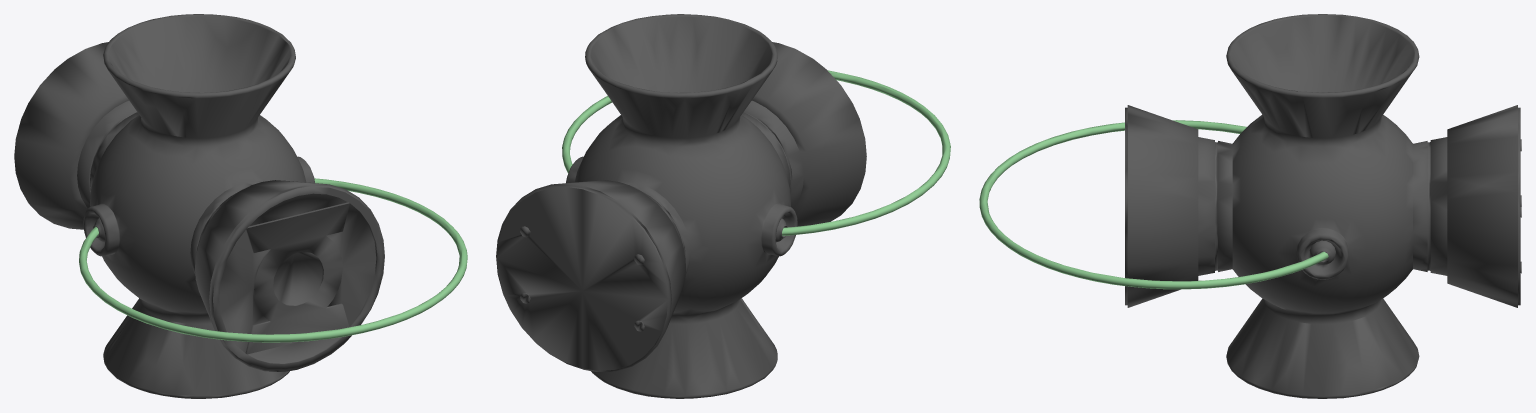
Rendered from item.light.power_cell_lantern.glb.
3 views of the same model, side by side, from view 1: azimuth 30°, elevation 25°; view 2: azimuth 150°, elevation 25°; view 3: azimuth 270°, elevation 25° (orthographic).
Parts seen in each view (by area): view 1: Body1; view 2: Body1; view 3: Body1.
Part boxes in pixels (x1=…): Body1: x1=14, y1=14, x2=467, y2=398; Body1: x1=496, y1=14, x2=950, y2=398; Body1: x1=979, y1=14, x2=1521, y2=398.
Size of the model in its own units: 0.8616 by 0.7468 by 1.2.
